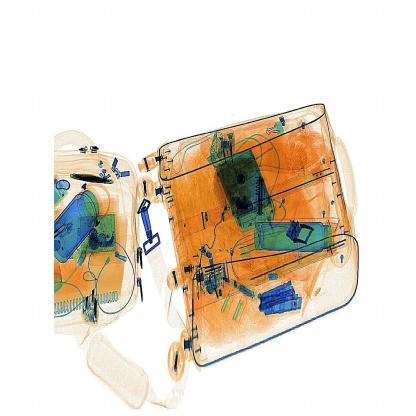scissors: (254, 178, 272, 218)
